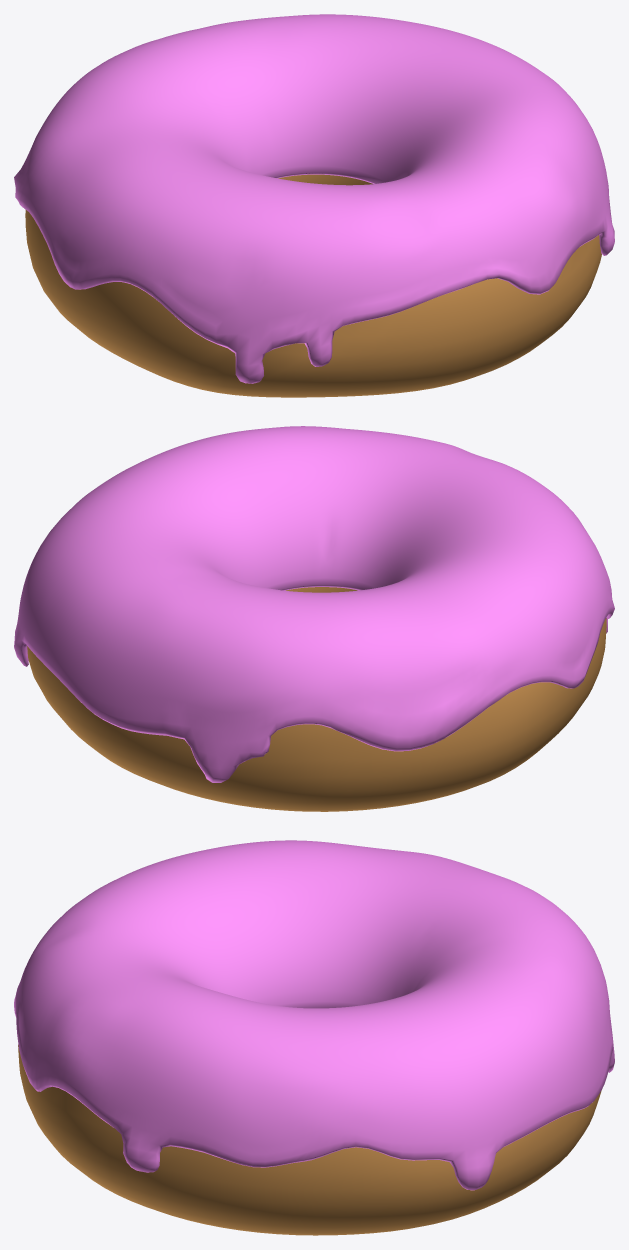
File: donut_e.obj
3 renders of one model, top to bottom at view 1: azimuth 30°, elevation 25°; view 2: azimuth 150°, elevation 25°; view 3: azimuth 270°, elevation 25°, orthographic. The views are drawn at different scales.
Visible parts, largest first — view 1: Torus; view 2: Torus; view 3: Torus.
Boxes of the visible parts, box(x1,y1,x2,y2) form: Torus: box(14, 14, 614, 397); Torus: box(14, 426, 614, 811); Torus: box(14, 840, 614, 1235).
Size of the model in its own units: 0.1128 by 0.0435 by 0.112.
2 materials, 2 textured.
